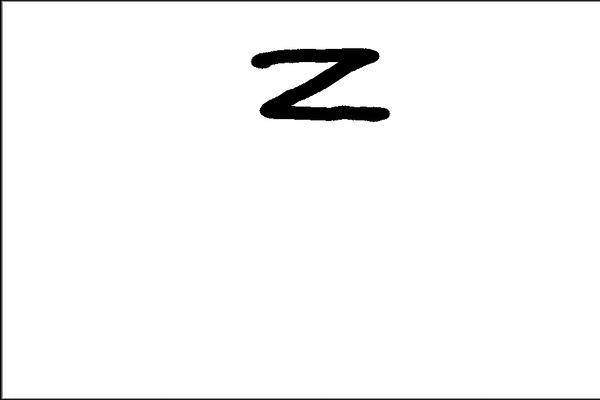Z: (242, 35, 399, 135)
